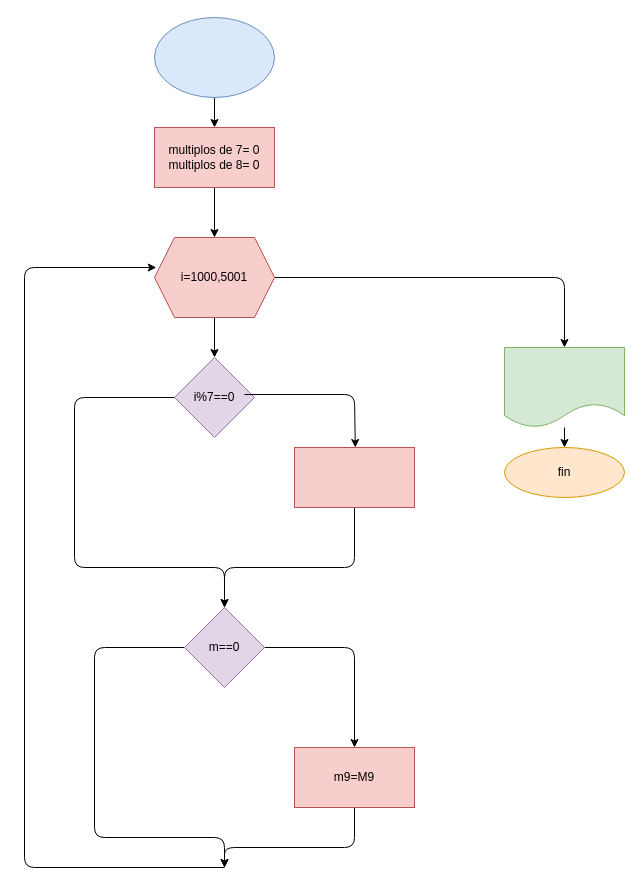
The diagram is 642 pixels wide and 893 high, and some of its shapes have lost their labels. The box of each missing label's shape, as (x1, y1, x2, y2) in pixels:
inicio: (154, 16, 274, 98)
M7 M9: (504, 346, 624, 428)
M7=M7+1: (294, 446, 414, 508)
